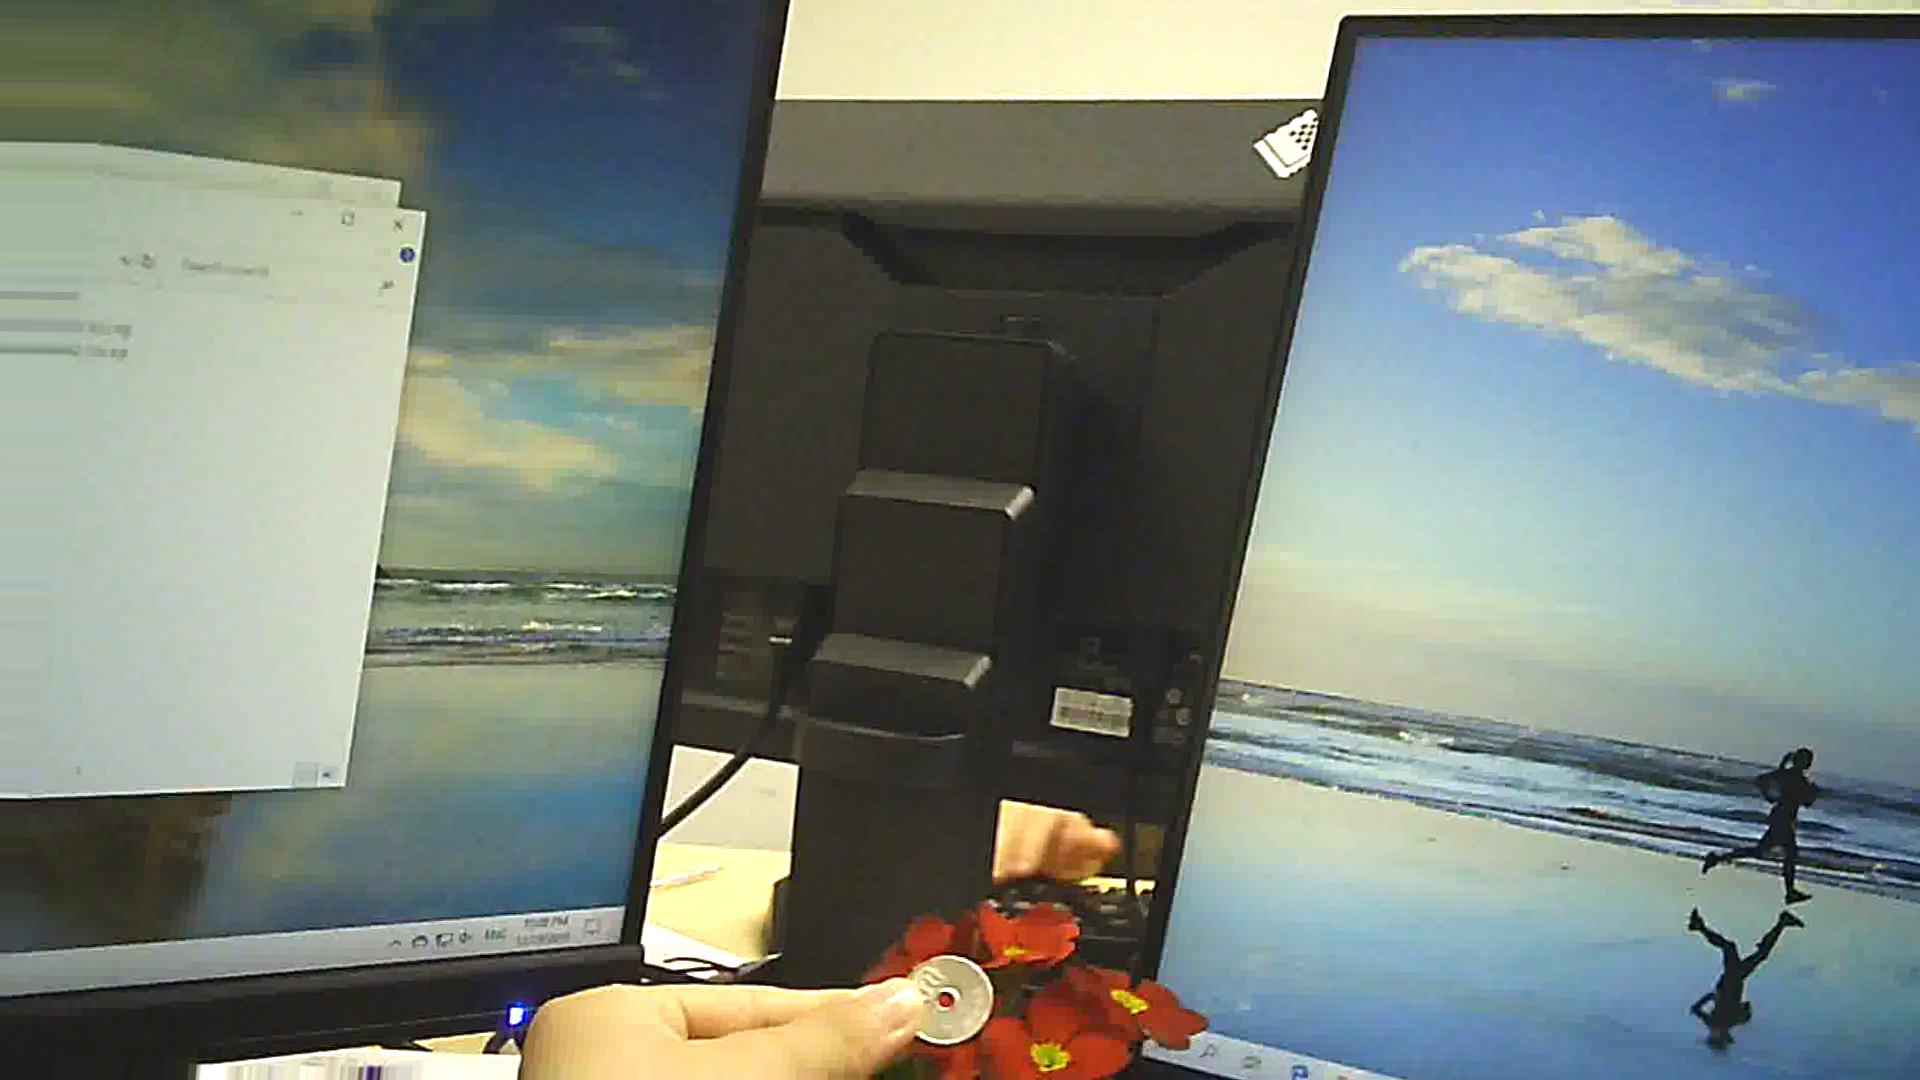50 Yen: (891, 947, 997, 1056)
